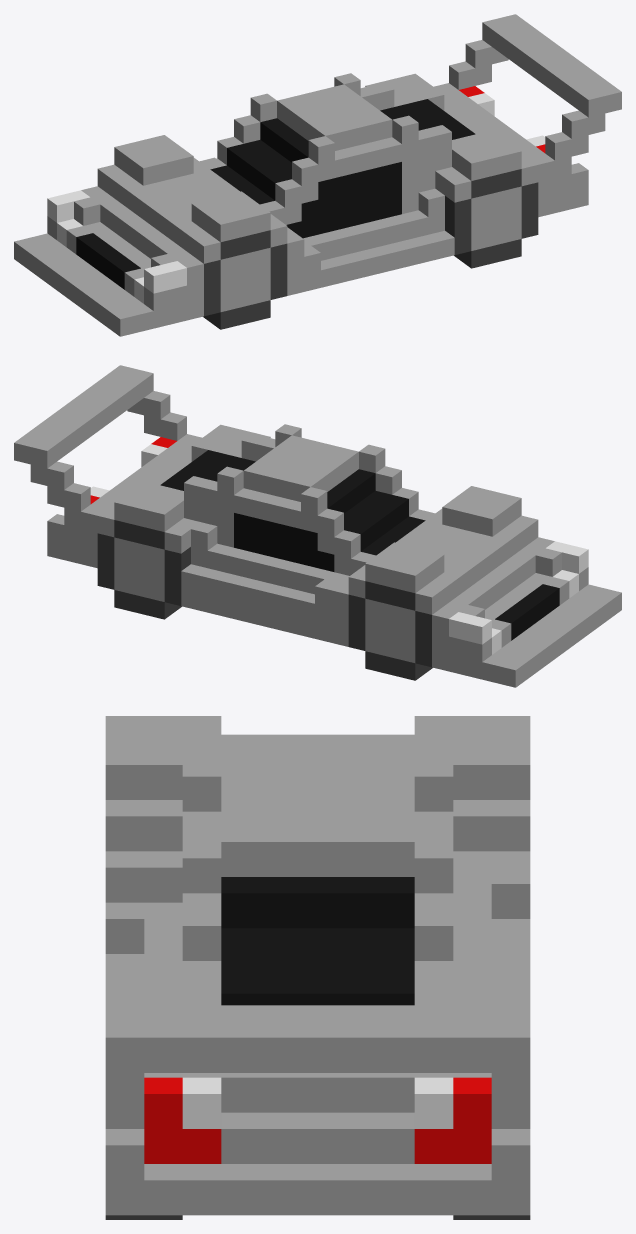
The model's file is car_17.glb.
3 renders of one model, top to bottom at view 1: azimuth 30°, elevation 25°; view 2: azimuth 150°, elevation 25°; view 3: azimuth 270°, elevation 25°, orthographic. The views are drawn at different scales.
Visible parts, largest first — view 1: ObjObject.001; view 2: ObjObject.001; view 3: ObjObject.001.
Part boxes in pixels (left/top/right/bottom): ObjObject.001: left=14, top=14, right=621, bottom=336; ObjObject.001: left=14, top=365, right=621, bottom=687; ObjObject.001: left=105, top=716, right=530, bottom=1219.
Bounding box in the file's own units: 3 × 0.8 × 1.1.
1 material, 1 textured.
